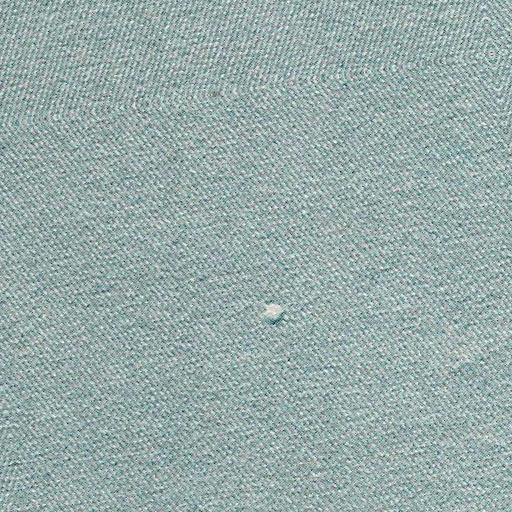knot: (255, 291, 300, 330)
